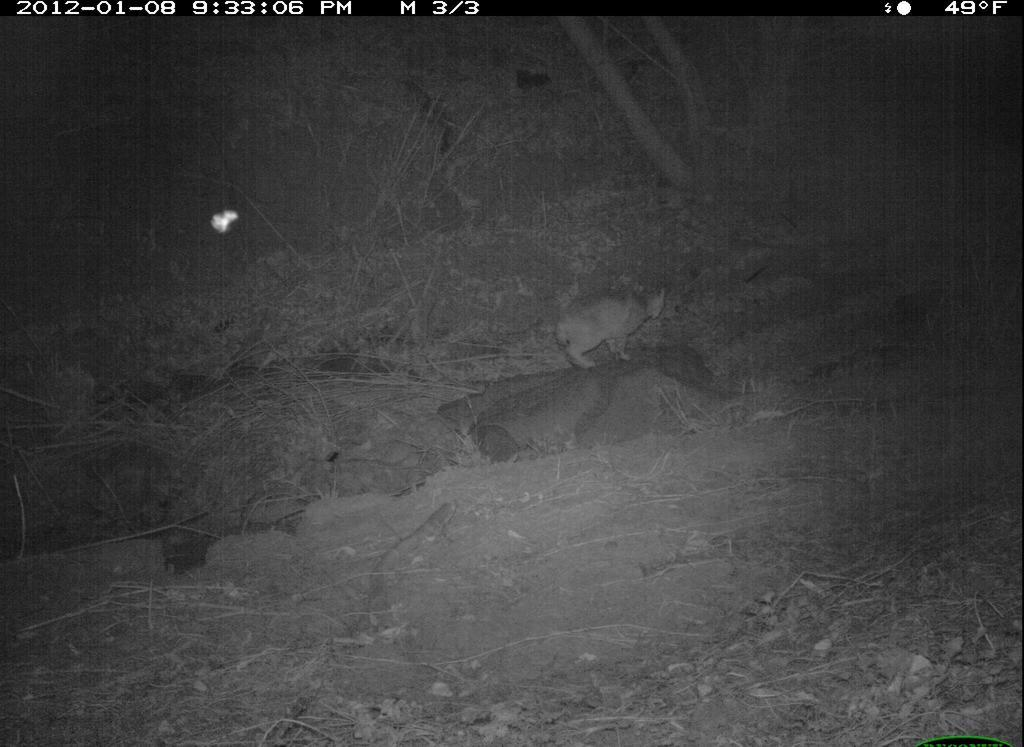bobcat: (542, 274, 681, 378)
